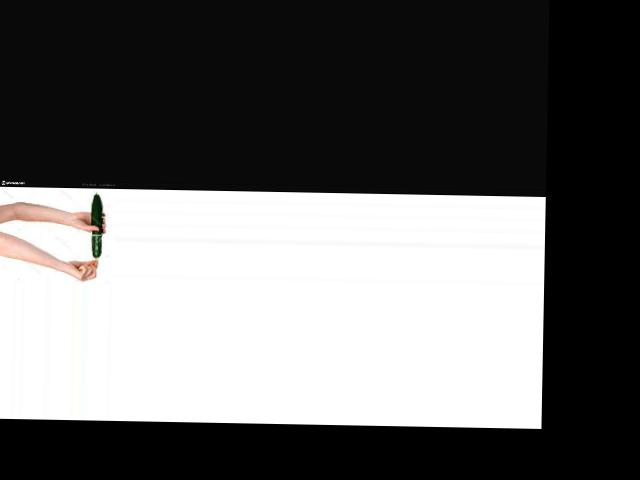cucumber: (92, 192, 103, 257)
